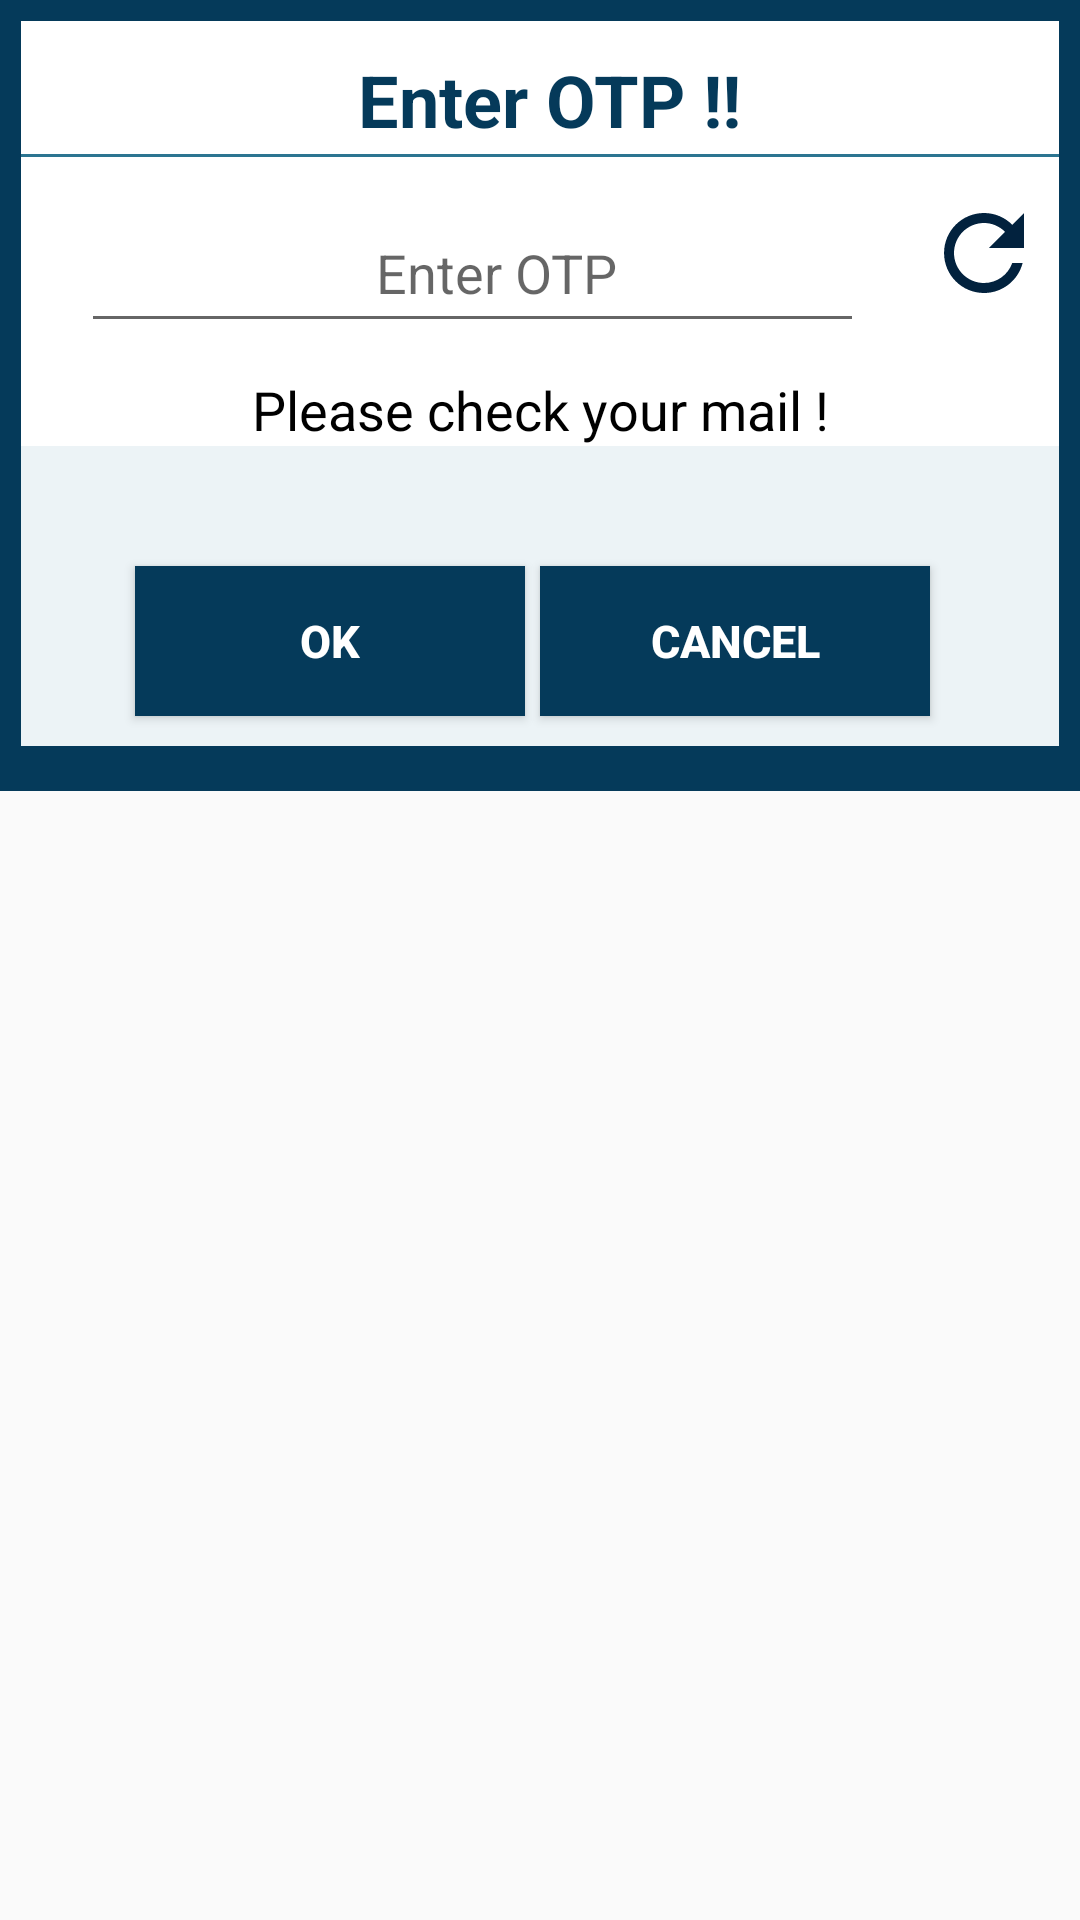

Screen size 1080x1920. Icon name, then its box in pixels as {"left": x1, "top": y1, "right": x2, "bottom": y2}:
refresh: {"left": 944, "top": 213, "right": 1024, "bottom": 293}
